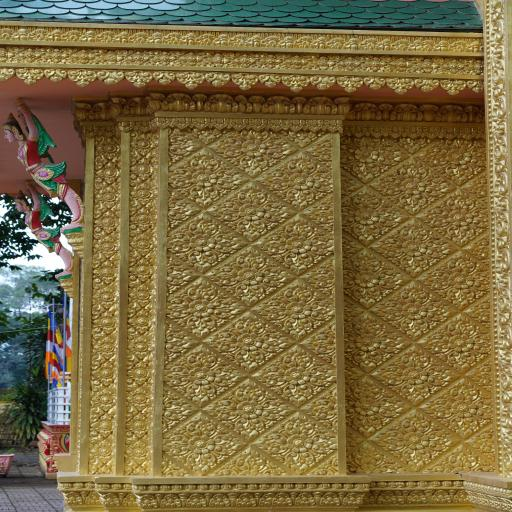hoa: (125, 386, 156, 412), (183, 364, 216, 387), (91, 208, 120, 234), (234, 396, 266, 419), (92, 258, 120, 284), (128, 256, 156, 282), (128, 281, 156, 307), (126, 157, 156, 181), (85, 439, 117, 461), (282, 432, 314, 454), (185, 433, 217, 455), (93, 336, 120, 362), (126, 360, 155, 384), (398, 362, 428, 385), (282, 364, 313, 386), (92, 284, 118, 310), (92, 235, 120, 259), (126, 310, 154, 334), (352, 394, 380, 418), (94, 309, 120, 334), (128, 180, 155, 204), (92, 388, 119, 412), (92, 411, 116, 438), (94, 160, 120, 184), (130, 205, 154, 231), (398, 431, 429, 451), (130, 234, 155, 258), (130, 133, 158, 154), (128, 334, 152, 358), (92, 360, 116, 384), (126, 412, 150, 436), (400, 237, 426, 259), (95, 186, 122, 207), (354, 204, 382, 224), (353, 332, 381, 352), (448, 398, 476, 418), (235, 267, 266, 285), (96, 137, 122, 158), (400, 301, 427, 321), (446, 333, 474, 352), (234, 332, 263, 350), (188, 298, 214, 318), (352, 270, 379, 289), (239, 139, 267, 157), (283, 301, 311, 319), (398, 177, 424, 196), (188, 169, 217, 186), (448, 209, 475, 227), (126, 440, 148, 462), (286, 173, 316, 189), (188, 234, 216, 251), (352, 144, 380, 161), (445, 148, 472, 165), (68, 49, 96, 65), (283, 236, 310, 252), (448, 272, 474, 288), (361, 56, 387, 71), (283, 54, 308, 69), (389, 56, 412, 72), (204, 53, 230, 67), (337, 56, 359, 72), (415, 56, 437, 72), (464, 58, 486, 74), (125, 50, 150, 64), (151, 50, 176, 64), (256, 54, 280, 68), (241, 203, 263, 218), (45, 48, 68, 62), (178, 52, 201, 66), (98, 50, 120, 64), (233, 53, 255, 67), (16, 49, 40, 61), (310, 57, 331, 70), (442, 59, 460, 71), (0, 48, 13, 62)
la: (433, 441, 480, 467), (416, 390, 452, 423), (367, 424, 404, 456), (164, 324, 194, 362), (161, 392, 195, 425), (228, 154, 281, 175), (393, 278, 435, 304), (176, 412, 220, 436), (272, 344, 316, 368), (304, 260, 335, 294), (390, 409, 432, 434), (174, 316, 226, 336), (384, 255, 436, 275), (392, 347, 437, 370), (225, 447, 272, 469), (167, 258, 199, 290), (304, 330, 335, 363), (154, 429, 188, 459), (275, 252, 321, 274), (272, 316, 316, 339), (305, 392, 336, 424), (391, 194, 436, 216), (276, 382, 317, 406), (438, 350, 486, 370), (272, 452, 320, 472), (378, 392, 411, 421), (185, 249, 223, 274), (344, 221, 385, 244), (276, 411, 315, 435), (424, 362, 460, 388), (369, 362, 405, 388), (264, 393, 294, 424), (257, 429, 288, 459), (179, 185, 225, 205), (345, 412, 385, 435), (230, 217, 268, 241), (344, 287, 392, 306), (262, 262, 297, 288), (379, 201, 412, 228), (212, 292, 246, 318), (424, 172, 458, 198), (180, 346, 222, 367), (179, 150, 223, 170), (201, 329, 236, 354), (255, 231, 286, 259), (228, 284, 271, 304), (396, 382, 435, 404), (227, 379, 264, 402), (169, 129, 198, 158), (278, 153, 320, 173), (185, 211, 220, 235), (168, 192, 196, 222), (232, 248, 272, 269), (223, 310, 263, 331), (462, 298, 492, 326), (381, 328, 411, 356), (308, 426, 338, 454), (348, 443, 390, 463), (277, 214, 315, 236), (217, 224, 243, 256), (216, 428, 242, 460), (444, 223, 480, 246), (390, 219, 431, 239), (438, 288, 479, 308), (346, 378, 387, 398), (177, 384, 220, 403), (264, 136, 298, 160), (266, 326, 294, 355), (420, 141, 448, 170), (376, 262, 406, 289), (255, 362, 285, 389), (348, 248, 383, 271), (441, 381, 476, 404), (167, 227, 192, 259), (229, 418, 265, 440), (226, 351, 270, 369), (426, 232, 454, 260), (216, 164, 246, 190), (182, 278, 223, 297), (208, 199, 240, 223), (425, 426, 457, 450), (346, 187, 384, 207), (447, 314, 480, 337), (307, 139, 335, 166), (230, 182, 266, 203), (390, 158, 432, 176), (391, 320, 433, 338), (209, 396, 236, 424), (215, 364, 244, 390), (442, 165, 479, 185), (311, 166, 338, 193), (428, 295, 455, 322), (209, 263, 237, 289), (255, 298, 283, 324), (372, 172, 400, 198), (372, 297, 398, 325), (468, 328, 494, 356), (162, 362, 190, 388), (467, 428, 495, 454), (212, 134, 241, 159), (441, 418, 479, 437), (257, 168, 287, 192), (377, 140, 407, 164), (348, 125, 382, 146), (348, 101, 379, 124), (284, 281, 316, 303), (310, 360, 337, 386), (284, 189, 319, 209), (472, 393, 497, 421), (354, 312, 387, 333), (439, 189, 473, 209), (349, 350, 383, 370), (266, 198, 294, 222), (464, 237, 492, 261), (422, 329, 446, 357), (418, 268, 447, 291), (166, 291, 188, 321), (373, 234, 398, 260), (204, 93, 240, 111), (311, 230, 335, 257), (440, 252, 474, 271), (181, 451, 215, 470), (173, 69, 205, 89), (230, 70, 259, 92), (264, 96, 294, 117), (348, 161, 381, 180), (310, 296, 335, 321), (161, 92, 195, 110), (14, 66, 44, 86), (392, 104, 425, 122), (397, 448, 428, 467), (358, 34, 390, 52), (166, 162, 188, 188), (68, 68, 97, 87), (384, 76, 413, 95), (130, 29, 164, 45), (125, 68, 152, 88), (305, 98, 335, 116), (326, 34, 359, 50), (195, 32, 232, 46), (262, 32, 294, 48), (294, 34, 328, 49), (392, 33, 420, 51), (230, 32, 261, 48), (98, 28, 128, 44), (419, 35, 449, 51), (280, 76, 310, 92), (125, 96, 149, 116), (193, 128, 223, 144), (29, 28, 63, 42), (163, 31, 197, 45), (96, 68, 124, 85), (438, 77, 464, 95), (438, 104, 464, 122), (476, 267, 494, 293), (282, 132, 315, 146), (311, 73, 335, 92), (0, 26, 30, 41), (204, 70, 229, 88), (336, 76, 362, 93), (92, 102, 113, 123), (151, 68, 175, 86), (448, 39, 480, 52), (414, 77, 440, 93), (338, 139, 354, 165), (62, 29, 96, 41), (475, 139, 489, 167), (341, 204, 356, 230), (239, 128, 271, 140), (208, 114, 229, 132), (442, 135, 470, 148), (44, 68, 68, 83), (74, 101, 92, 121), (400, 139, 424, 154), (97, 121, 118, 138), (172, 114, 193, 131), (362, 74, 384, 90), (403, 125, 425, 140), (258, 74, 278, 90), (82, 123, 102, 139), (438, 126, 458, 142), (365, 123, 386, 138), (110, 97, 128, 114), (384, 124, 404, 139), (116, 118, 137, 132), (285, 118, 306, 132), (456, 126, 477, 140), (266, 118, 284, 134), (246, 118, 268, 131), (132, 119, 152, 133), (323, 118, 340, 134), (229, 117, 247, 132), (190, 115, 209, 129), (150, 116, 170, 129), (346, 124, 366, 137), (305, 118, 323, 132), (420, 125, 439, 138), (468, 78, 483, 94), (0, 66, 14, 83)
than: (2, 98, 104, 226), (0, 179, 80, 268)
